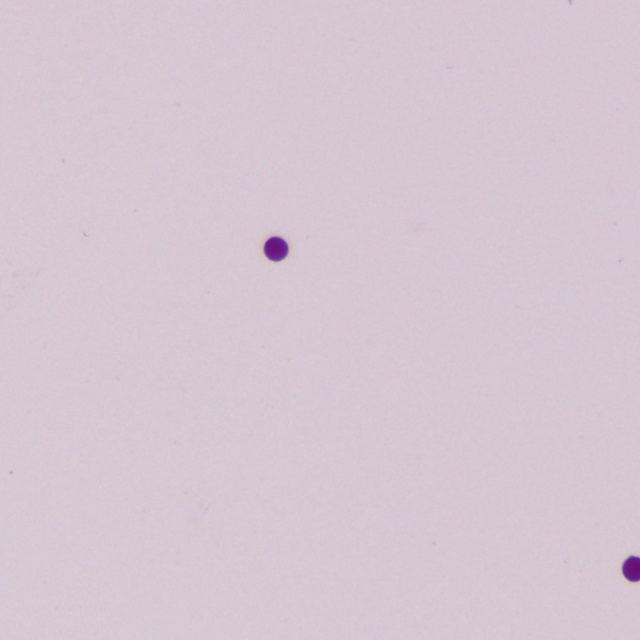viable: (265, 237, 288, 261), (623, 557, 639, 581)
